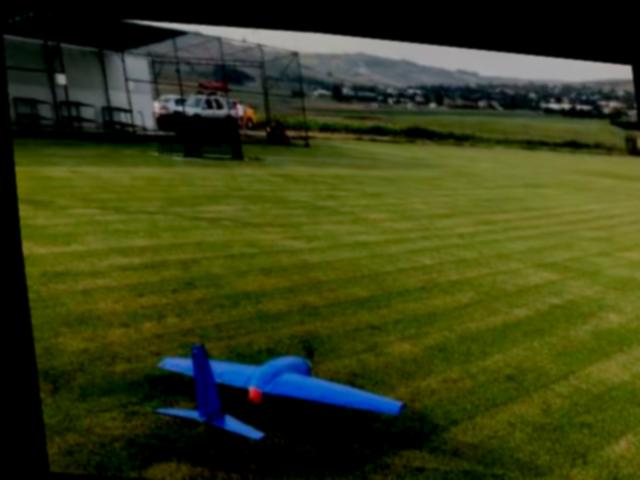uav: (139, 308, 408, 464)
